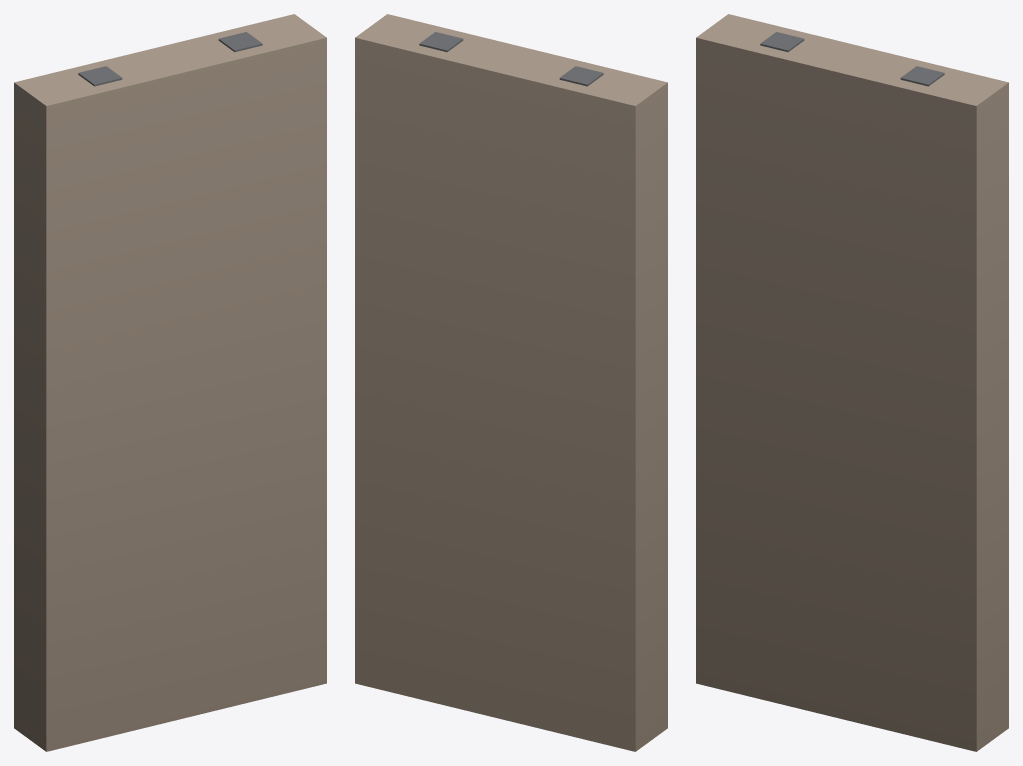
The model's file is wall12_regocrete.glb.
3 renders of one model, left to right at view 1: azimuth 30°, elevation 25°; view 2: azimuth 150°, elevation 25°; view 3: azimuth 330°, elevation 25°, orthographic.
Parts seen in each view (by area): view 1: wall12_regocrete; view 2: wall12_regocrete; view 3: wall12_regocrete.
Part boxes in pixels (bbox=[...]): wall12_regocrete: bbox=[14, 14, 326, 751]; wall12_regocrete: bbox=[355, 14, 667, 751]; wall12_regocrete: bbox=[696, 14, 1008, 751].
Size of the model in its own units: 1 by 2.21 by 0.2.
